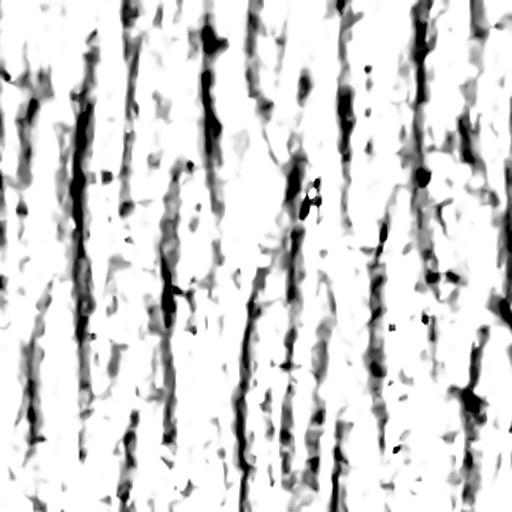egg: (299, 177, 321, 219), (417, 167, 430, 185)
